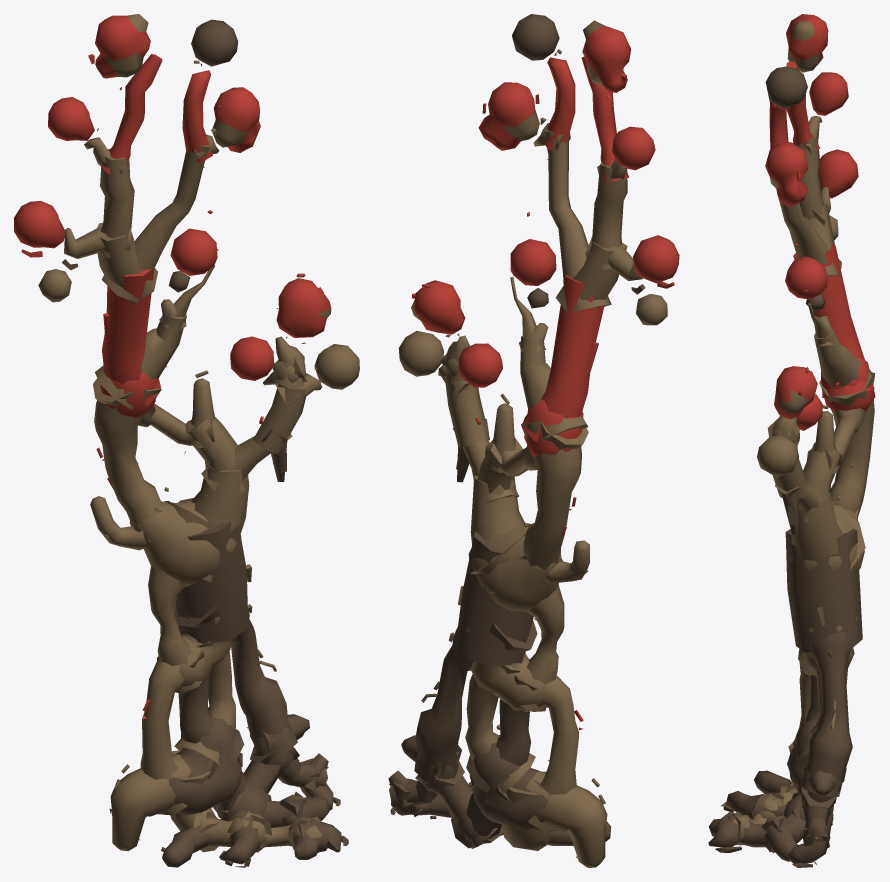
File: yumako-tree.glb
The picture shows the model from 3 angles, left to right: view 1: azimuth 30°, elevation 25°; view 2: azimuth 150°, elevation 25°; view 3: azimuth 270°, elevation 25°; orthographic projection. The views are drawn at different scales.
Visible parts, largest first — view 1: body; view 2: body; view 3: body.
Part boxes in pixels (x1=…): body: x1=14, y1=14, x2=359, y2=867; body: x1=388, y1=14, x2=679, y2=867; body: x1=708, y1=14, x2=875, y2=867.
Size of the model in its own units: 2.86 by 7.51 by 1.48.
